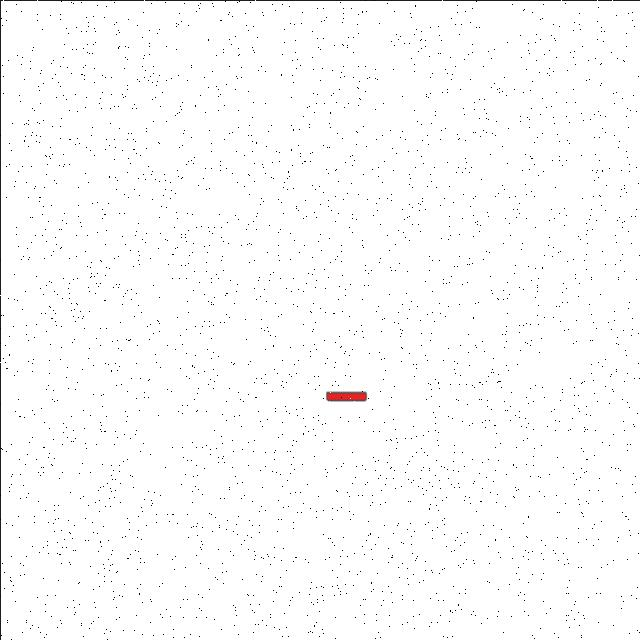3069b: (321, 388, 369, 403)
